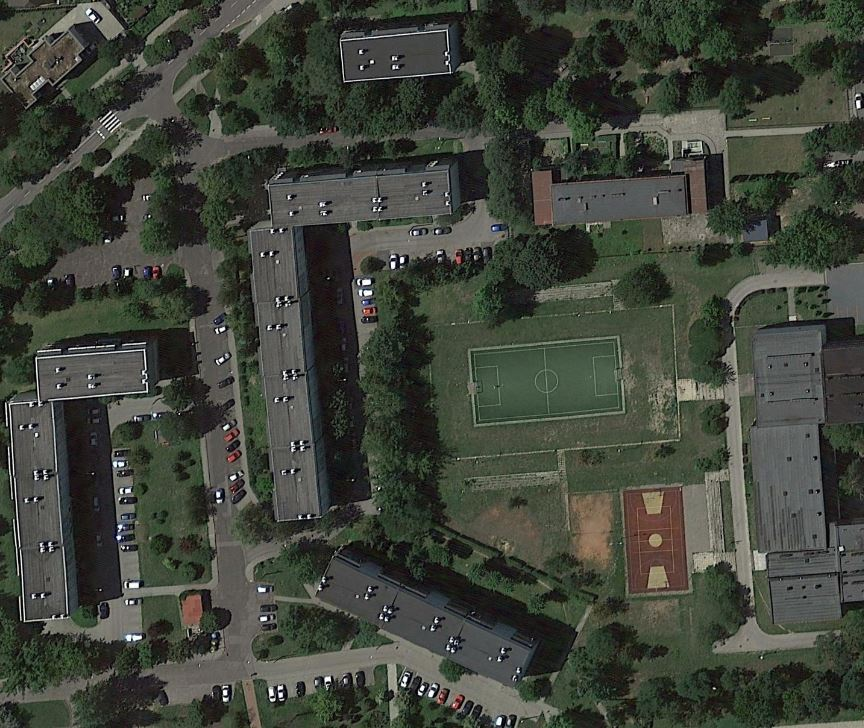block of flats: (238, 148, 468, 529), (3, 331, 165, 636), (746, 318, 861, 634), (308, 540, 542, 692), (530, 148, 722, 233), (338, 17, 471, 90)
